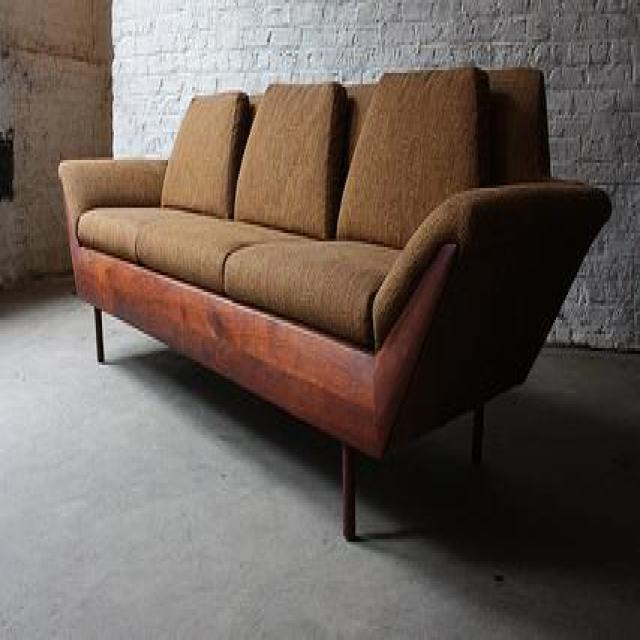sofa: (56, 57, 616, 550)
